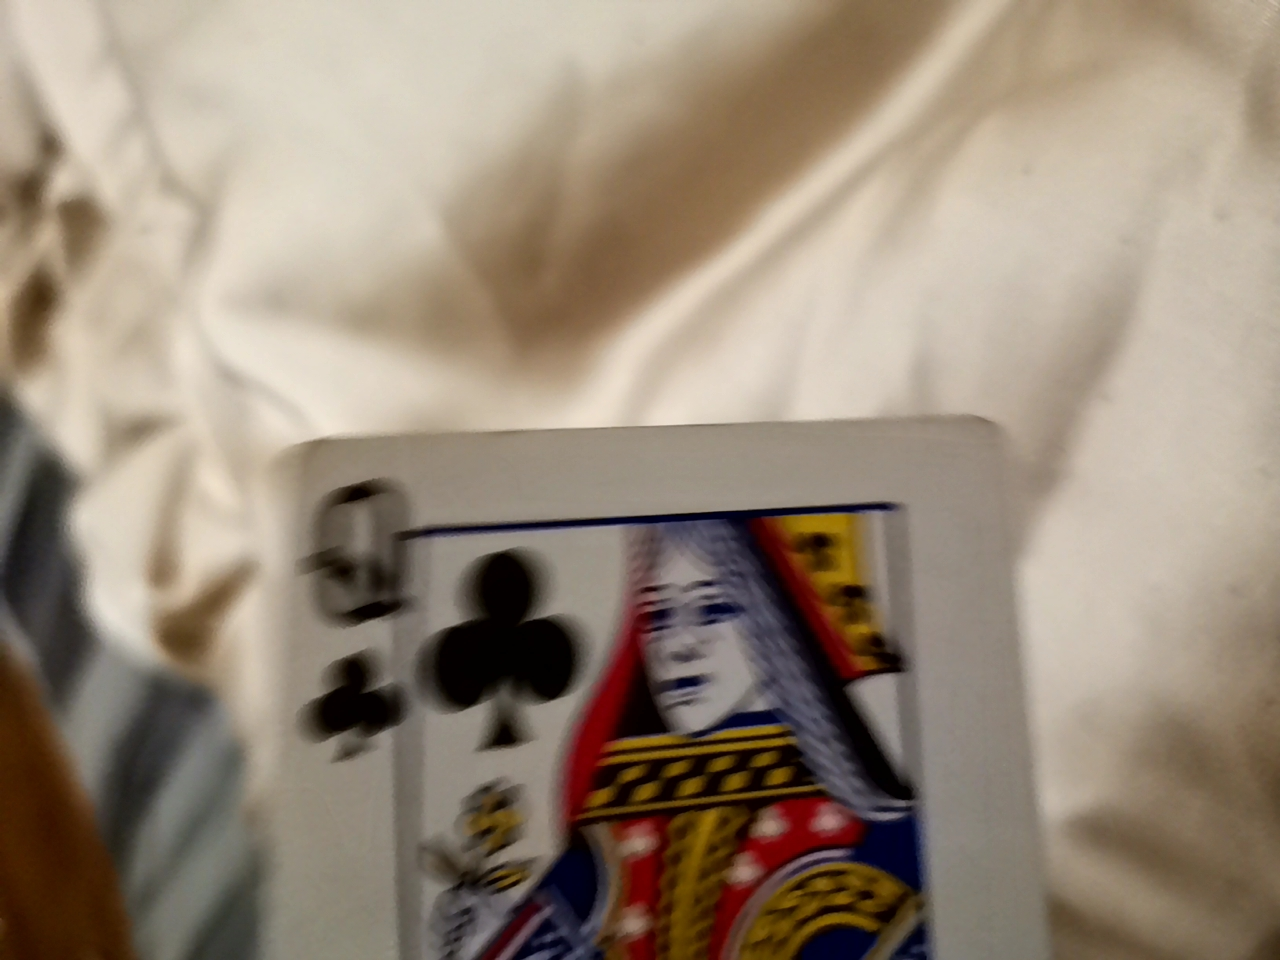mh q: (117, 448, 1041, 960)
